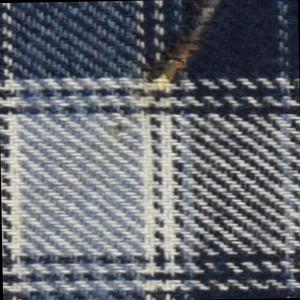Damage: (151, 1, 223, 84)
Oil Stain: (102, 1, 233, 144)
